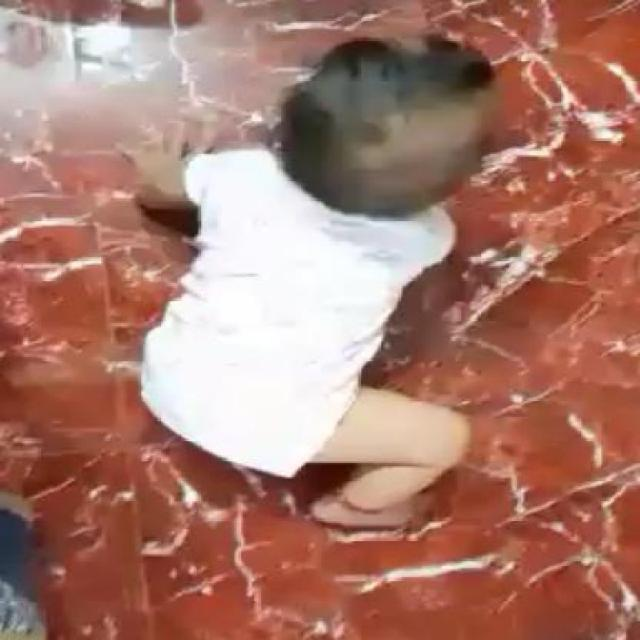non-dog: (93, 21, 516, 536)
